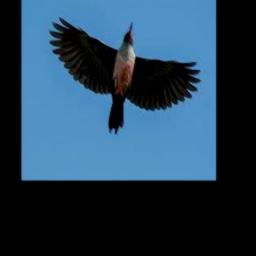Woodpecker: (50, 18, 200, 134)
